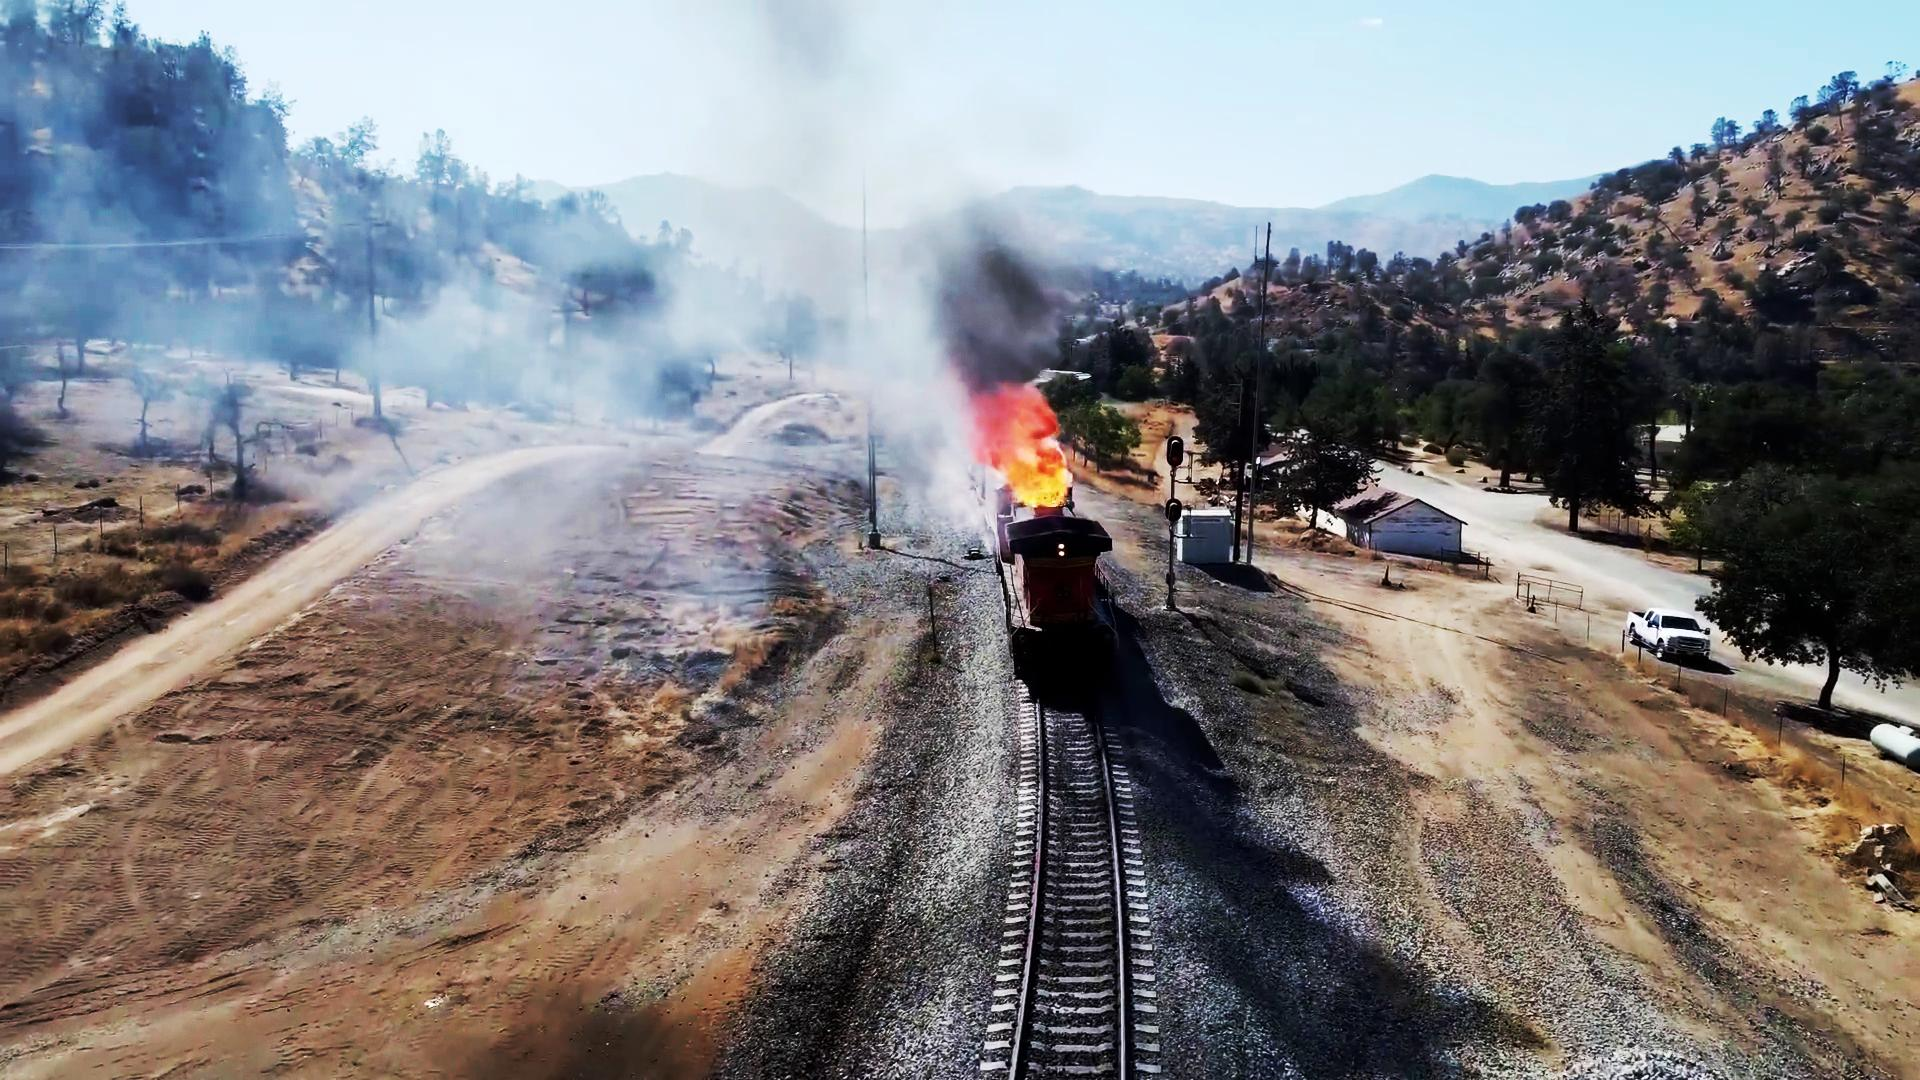fire: (961, 369, 1093, 518)
smoke: (935, 231, 1097, 393)
